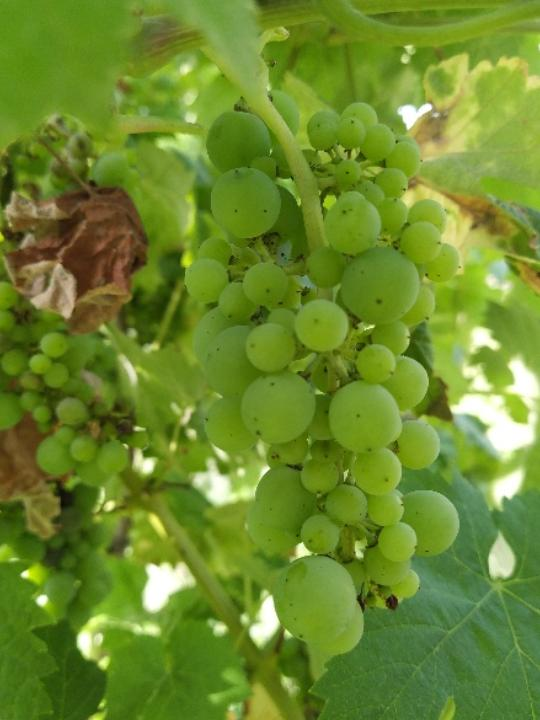grape: (180, 87, 467, 658)
